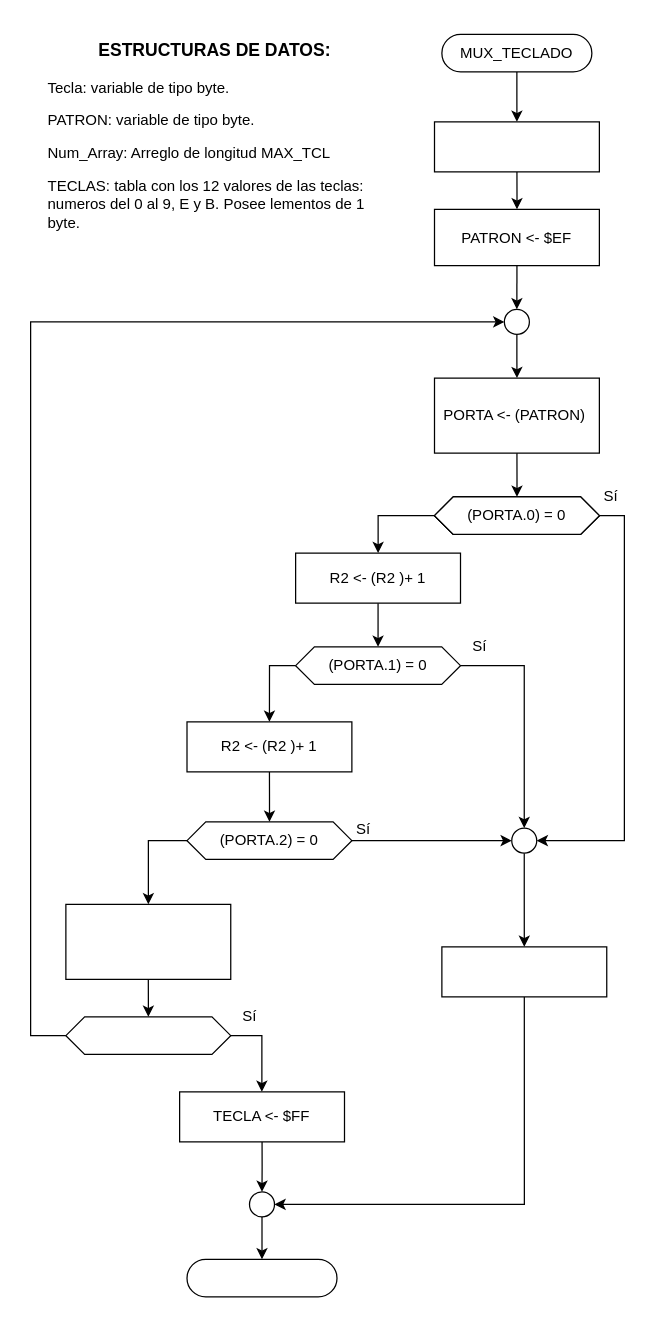
This 656x1319 diagram has some shape labels left out. The box of each missing label's shape, as (x1, y1, x2, y2) in pixels:
(R1) = (PATRON): (65, 1016, 231, 1054)
R2 <- $00 J <- (TECLAS): (433, 121, 599, 172)
R2 <- (R2 )+ 1 C <- PATRON <- 0 R1 <- (PATRON): (65, 903, 231, 979)
RETORNAR: (186, 1258, 337, 1297)
TECLA <- ((B)+(X)): (441, 946, 607, 997)
